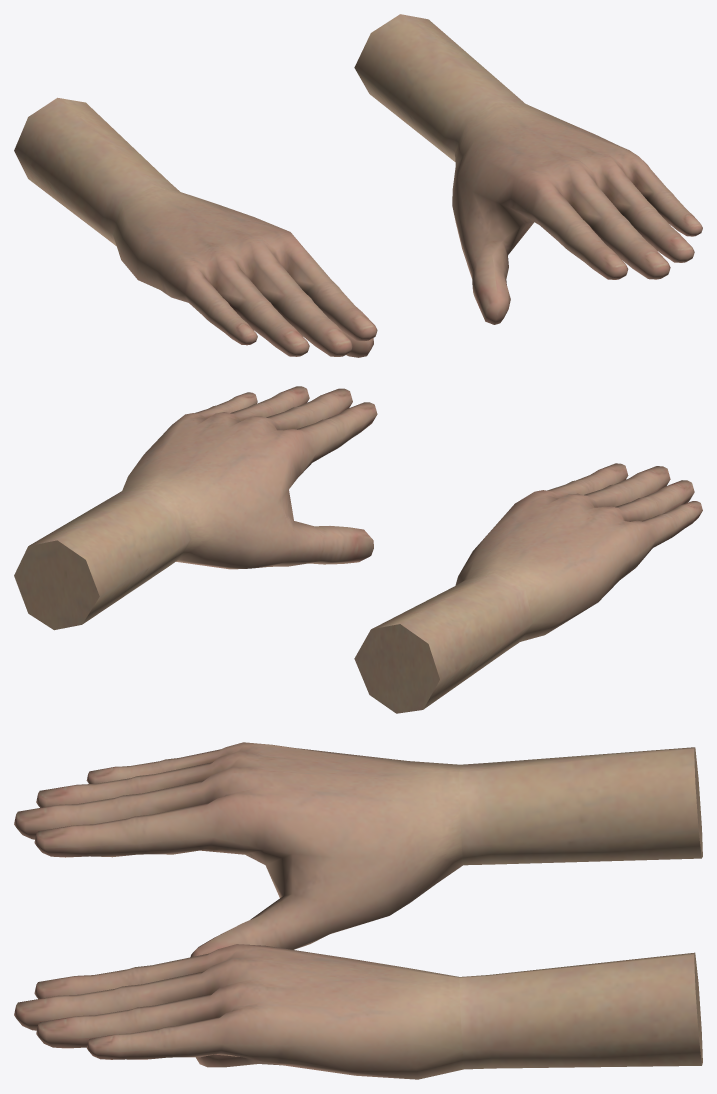
Rendered from uploads_files_3851905_Female_Hand_lowpoly.fbx.
3 renders of one model, top to bottom at view 1: azimuth 30°, elevation 25°; view 2: azimuth 150°, elevation 25°; view 3: azimuth 270°, elevation 25°, orthographic. The views are drawn at different scales.
Visible parts, largest first — view 1: hand, hand1; view 2: hand, hand1; view 3: hand1, hand.
Boxes of the visible parts, x1,y1,x2,y2 form: hand: (354,14,702,324); hand1: (14,97,377,357); hand: (14,386,377,630); hand1: (354,463,702,713); hand1: (14,742,702,957); hand: (14,944,702,1079).
Size of the model in its own units: 19.83 by 5.64 by 20.34.
Materials: 1 (1 with a texture image).
